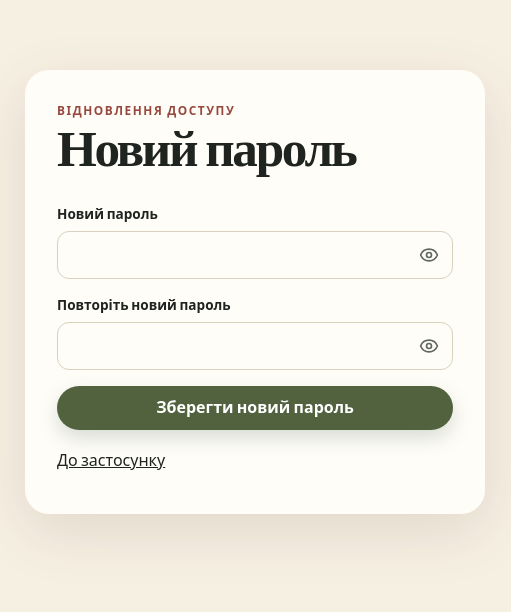
Test: ResetPasswordPage › validates confirmation and updates the recovered password
Type "new-secret-123" into the password field labelled "Новий пароль". click: (255, 254)
box: 57,230 -> 453,278
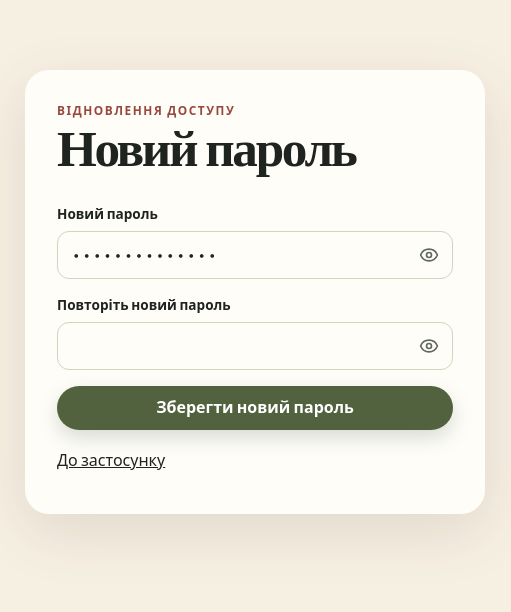
Type "new-secret-123" into the password field labelled "Повторіть новий пароль". click: (255, 346)
box: 57,322 -> 453,370
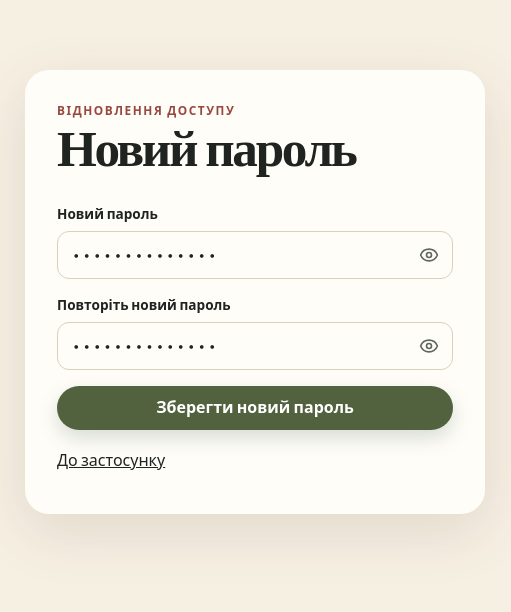
Click the button "Зберегти новий пароль". click: (255, 408)
box: 57,386 -> 453,430
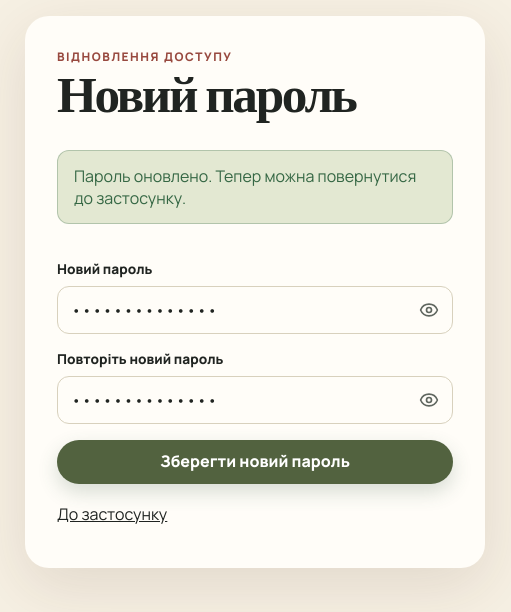
Expected: the message shows "Пароль оновлено", 74,164 -> 416,208
